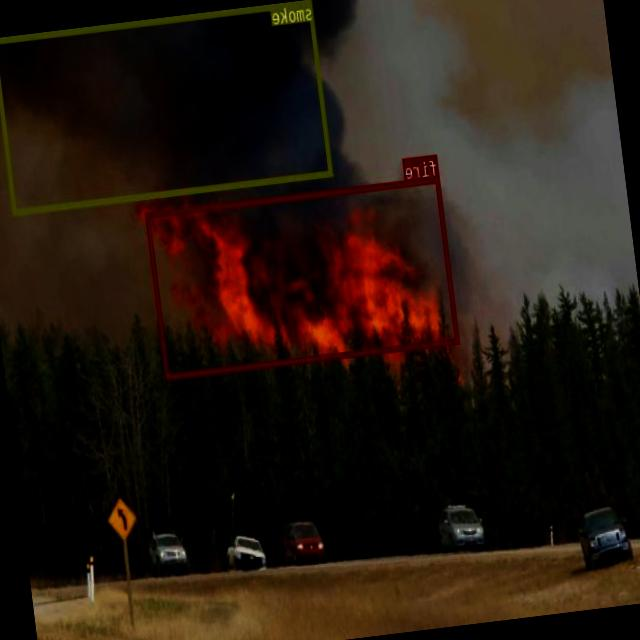fire: (146, 175, 460, 378)
smoke: (0, 0, 333, 214)
